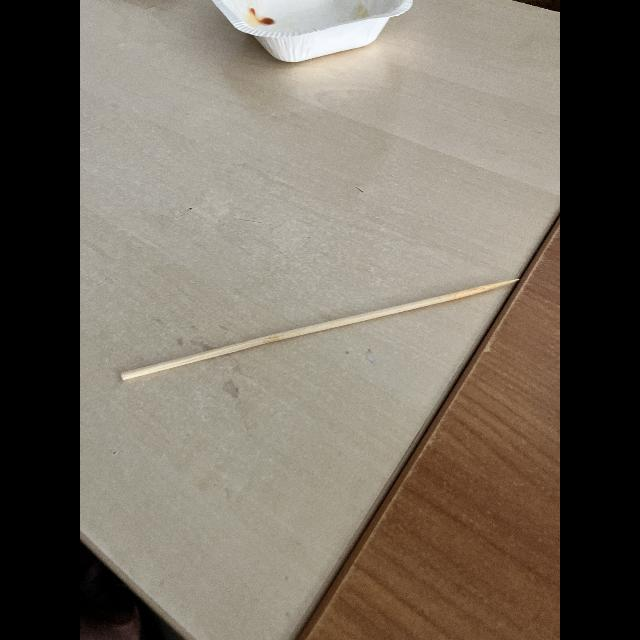cardboard_bowl: (204, 0, 433, 100)
stick: (100, 260, 534, 414)
